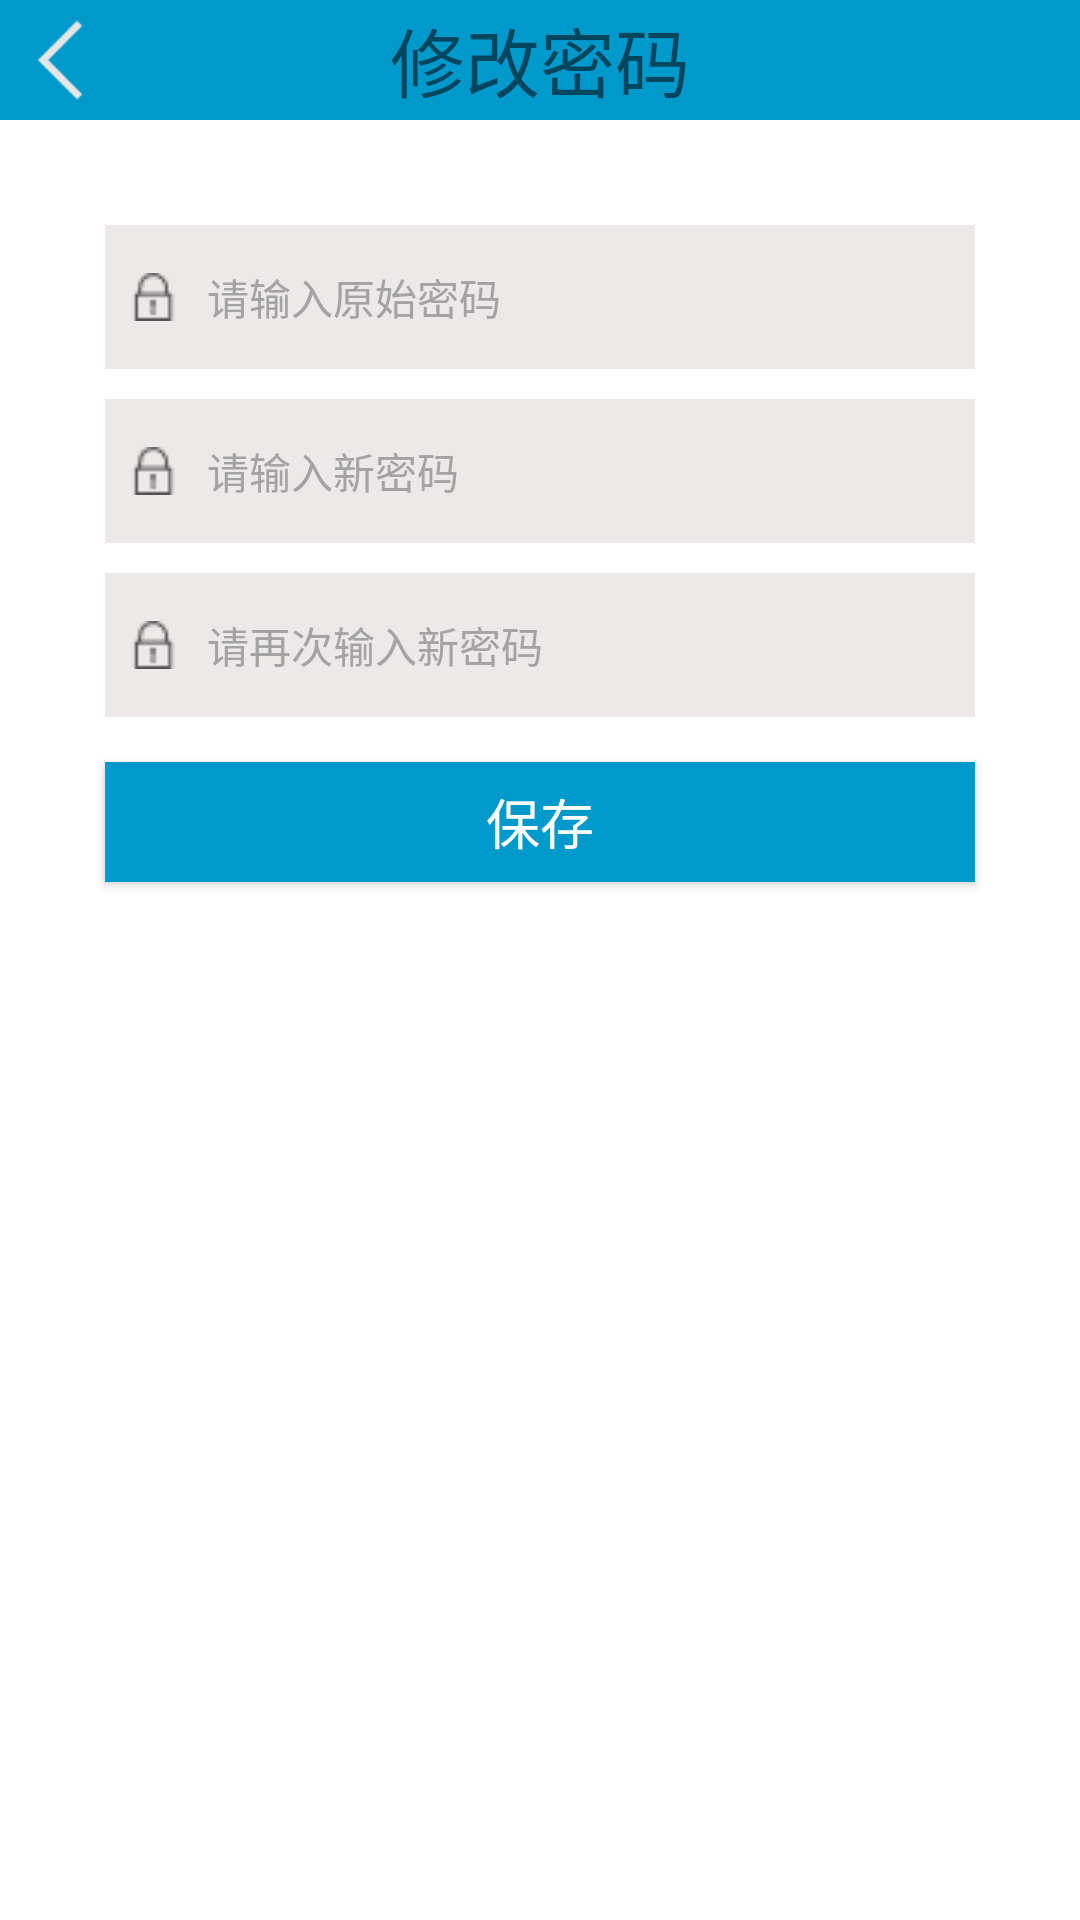

Icons on this 1080w x 1920h Android screen, each with the point to tap as [x,y]:
back: [60,60]
